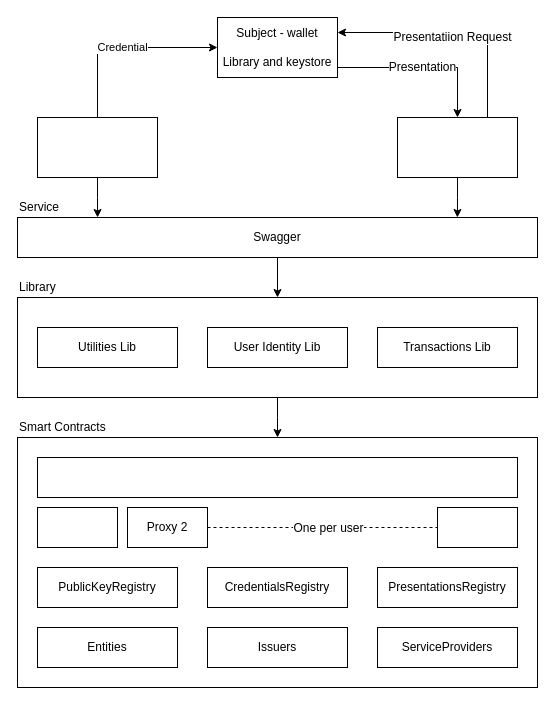
Some shapes in this 555 by 705 pixel diagram are drawn without their labels. The centre of each missing label's shape, as x and y in pixels:
"IdentityManager" goes at pixel 277 477.
"Issuer" goes at pixel 97 147.
"Proxy 1" goes at pixel 77 527.
"Proxy n" goes at pixel 477 527.
"Service Provider (Relying Party)" goes at pixel 457 147.
